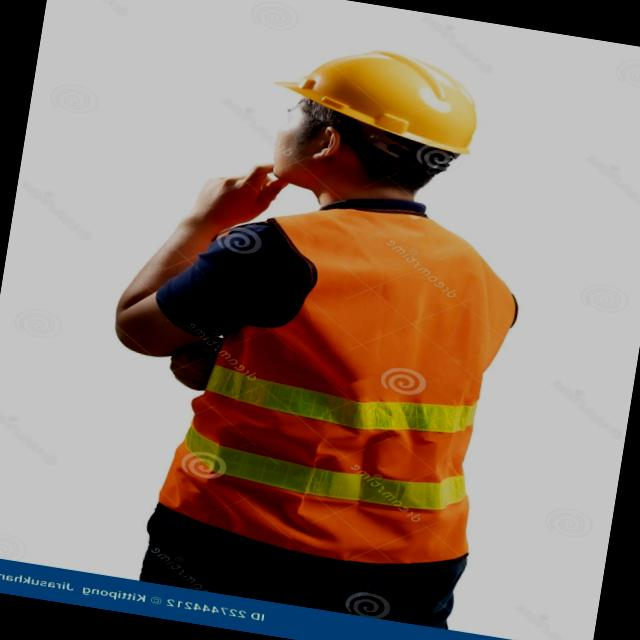helmet: (250, 16, 528, 172)
vest: (110, 150, 566, 574)
